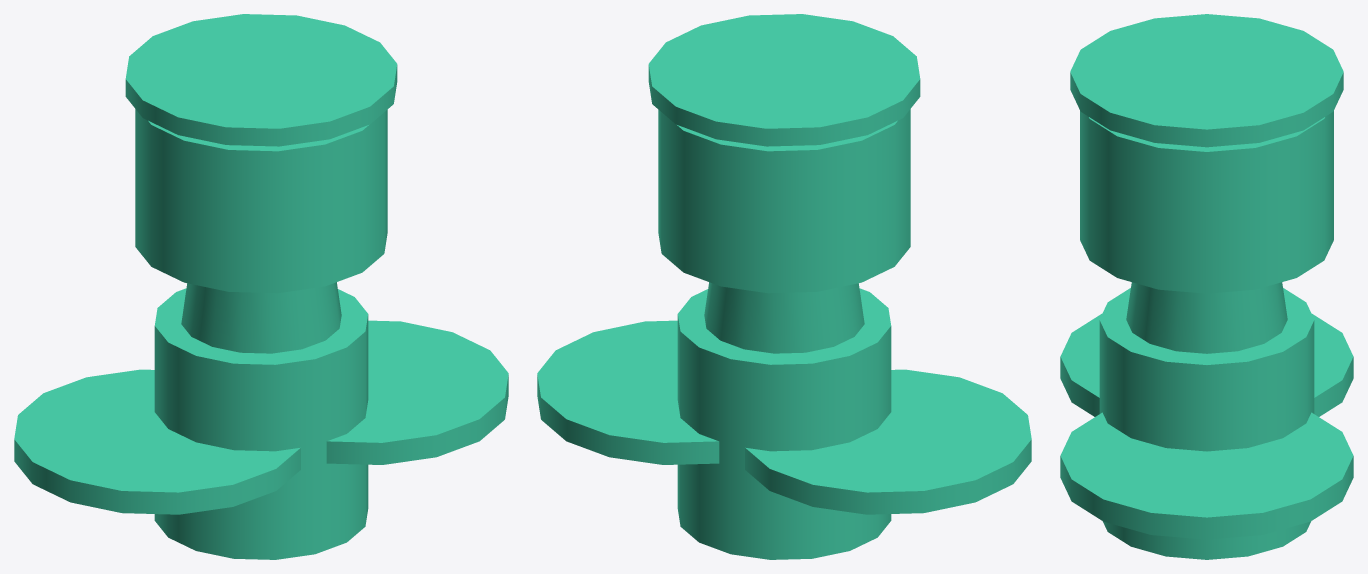
File: valve.gltf
The picture shows the model from 3 angles, left to right: view 1: azimuth 30°, elevation 25°; view 2: azimuth 150°, elevation 25°; view 3: azimuth 270°, elevation 25°; orthographic projection.
Visible parts, largest first — view 1: ScadaControlValve; view 2: ScadaControlValve; view 3: ScadaControlValve.
Part boxes in pixels (bbox=[...]): ScadaControlValve: bbox=[14, 14, 508, 559]; ScadaControlValve: bbox=[537, 14, 1031, 559]; ScadaControlValve: bbox=[1060, 14, 1353, 559].
Bounding box in the file's own units: 10.8 × 10 × 6.
